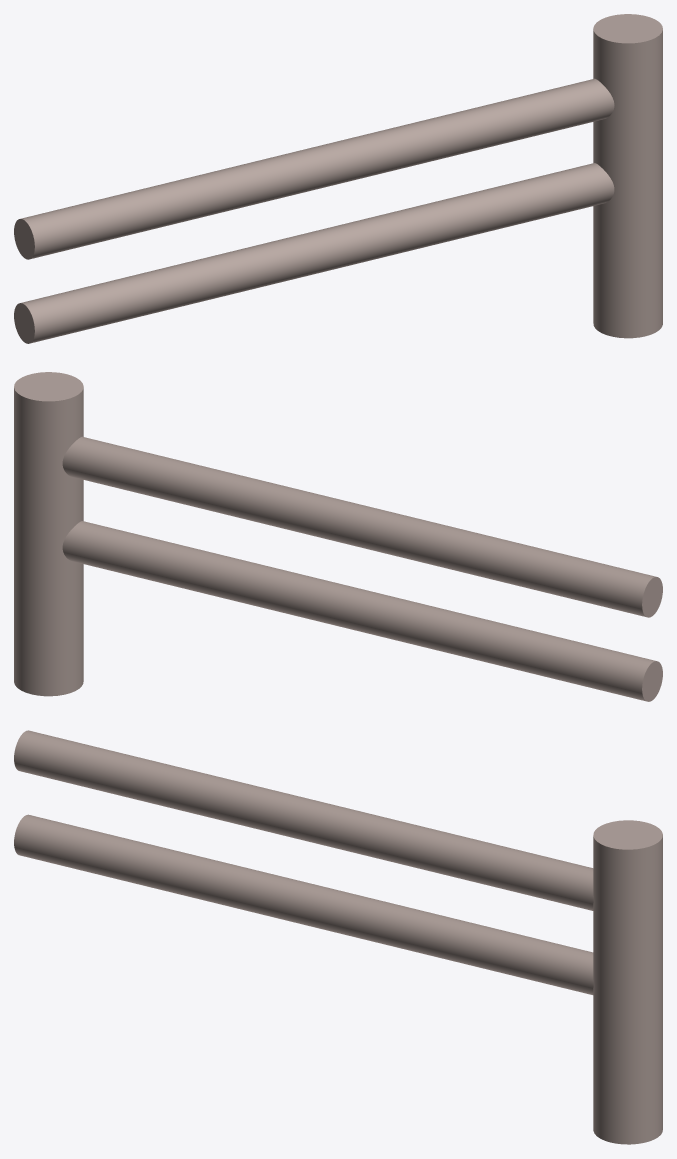
The model's file is 1008_fence_connect.glb.
3 views of the same model, one above another, from view 1: azimuth 30°, elevation 25°; view 2: azimuth 150°, elevation 25°; view 3: azimuth 330°, elevation 25° (orthographic).
Parts seen in each view (by area): view 1: Body; view 2: Body; view 3: Body.
Part boxes in pixels (left/top/right/bottom): Body: left=14, top=14, right=662, bottom=343; Body: left=14, top=372, right=662, bottom=701; Body: left=14, top=730, right=662, bottom=1144.
Size of the model in its own units: 1.58 by 0.7 by 0.15.
